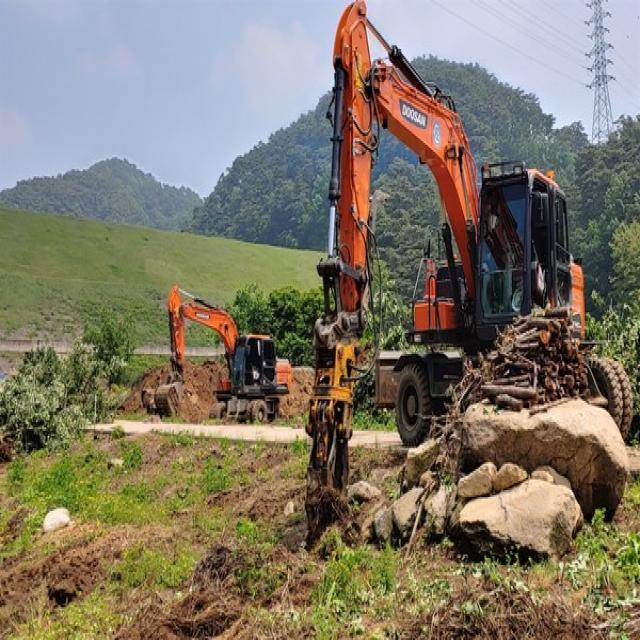machinery: (306, 0, 574, 494), (166, 286, 291, 422)
